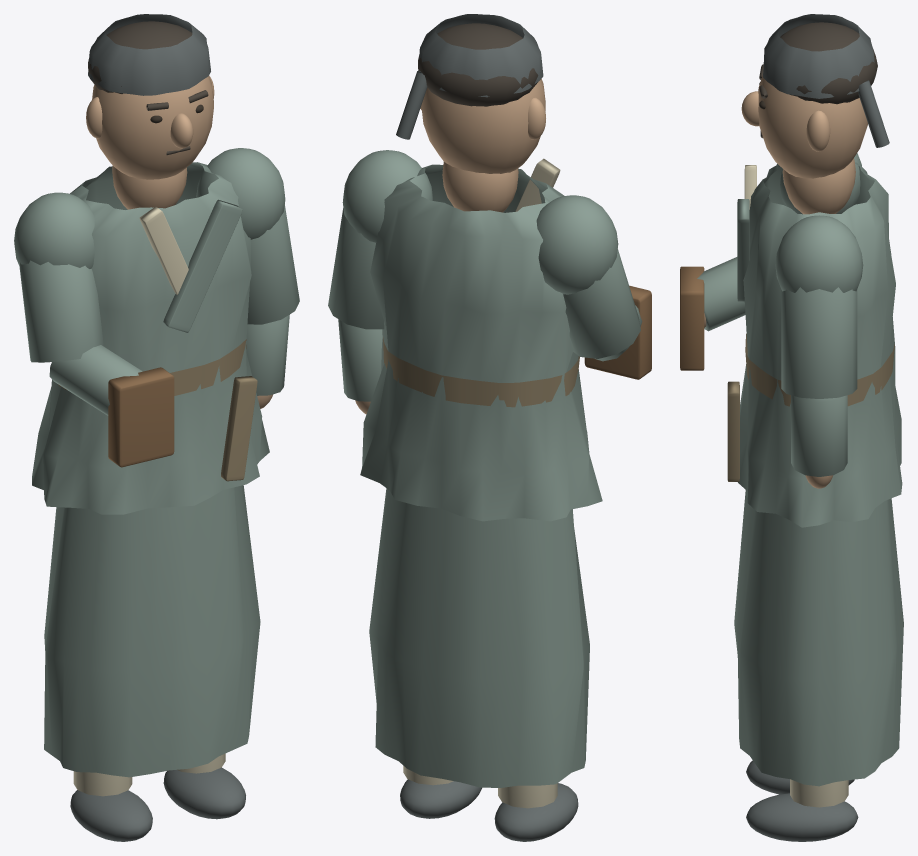
The model's file is merchant.glb.
3 views of the same model, side by side, from view 1: azimuth 30°, elevation 25°; view 2: azimuth 150°, elevation 25°; view 3: azimuth 270°, elevation 25° (orthographic).
Visible parts, largest first — view 1: Plain merchants robe, Cross-collar working coat.003, Face.003, upper.006, Soft cloth cap.002, Closed wooden ledger, Shoulder.006, Shoulder.007, upper.007, Folded tunic lapel.003, Cloth shoe.006, Cloth shoe.007 (+10 smaller); view 2: Cross-collar working coat.003, Plain merchants robe, Face.003, Shoulder.006, upper.006, Soft cloth cap.002, Hair crown.003, Shoulder.007, Woven waist sash.003, upper.007, fore.007, Cloth shoe.006 (+7 smaller); view 3: Plain merchants robe, Cross-collar working coat.003, upper.007, Face.003, Shoulder.007, Soft cloth cap.002, fore.007, Cloth shoe.007, Hair crown.003, Closed wooden ledger, Neck.003, fore.006 (+9 smaller).
Part boxes in pixels (x1,y1,x2,y2): Plain merchants robe: (44, 485, 260, 777); Cross-collar working coat.003: (32, 162, 269, 514); Face.003: (92, 75, 213, 179); upper.006: (19, 260, 103, 362); Soft cloth cap.002: (88, 14, 210, 95); Closed wooden ledger: (108, 367, 174, 467); Shoulder.006: (14, 192, 94, 268); Shoulder.007: (196, 148, 285, 239); upper.007: (247, 204, 299, 324); Folded tunic lapel.003: (163, 199, 242, 332); Cloth shoe.006: (70, 790, 152, 841); Cloth shoe.007: (163, 767, 245, 819); Cross-collar working coat.003: (360, 164, 602, 521); Plain merchants robe: (369, 367, 589, 787); Face.003: (421, 79, 545, 173); Shoulder.006: (536, 195, 618, 294); upper.006: (563, 249, 640, 358); Soft cloth cap.002: (419, 14, 543, 97); Hair crown.003: (418, 23, 538, 106); Shoulder.007: (342, 150, 432, 242); Woven waist sash.003: (383, 337, 579, 407); upper.007: (328, 208, 384, 329); fore.007: (338, 319, 382, 401); Cloth shoe.006: (494, 783, 578, 841); Plain merchants robe: (734, 490, 903, 786); Cross-collar working coat.003: (738, 162, 902, 527); upper.007: (781, 287, 857, 398); Face.003: (758, 75, 867, 178); Shoulder.007: (775, 215, 863, 292); Soft cloth cap.002: (763, 14, 875, 98); fore.007: (791, 395, 847, 476); Cloth shoe.007: (746, 793, 858, 841); Hair crown.003: (780, 22, 877, 104); Closed wooden ledger: (680, 266, 704, 370); Neck.003: (782, 158, 855, 214); fore.006: (697, 257, 745, 331).
Bounding box in the file's own units: 0.6587 × 1.77 × 0.4582.
